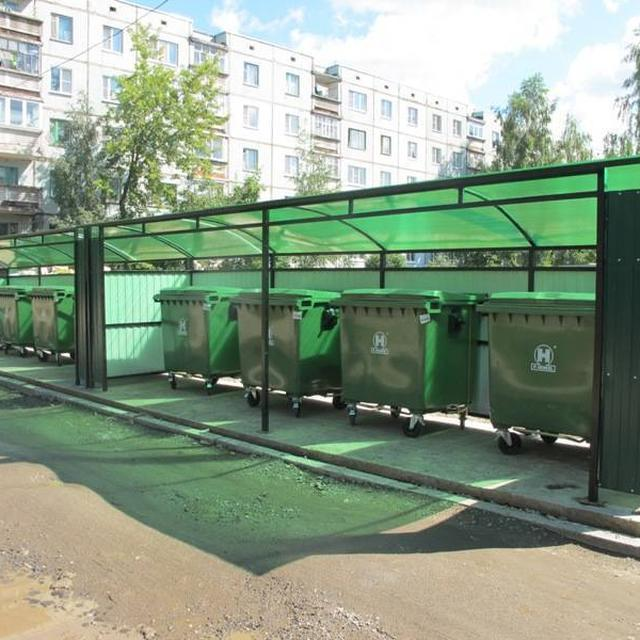Trash_Can_Closed: (329, 288, 486, 410), (476, 291, 596, 440), (230, 288, 348, 396), (154, 286, 256, 380)
